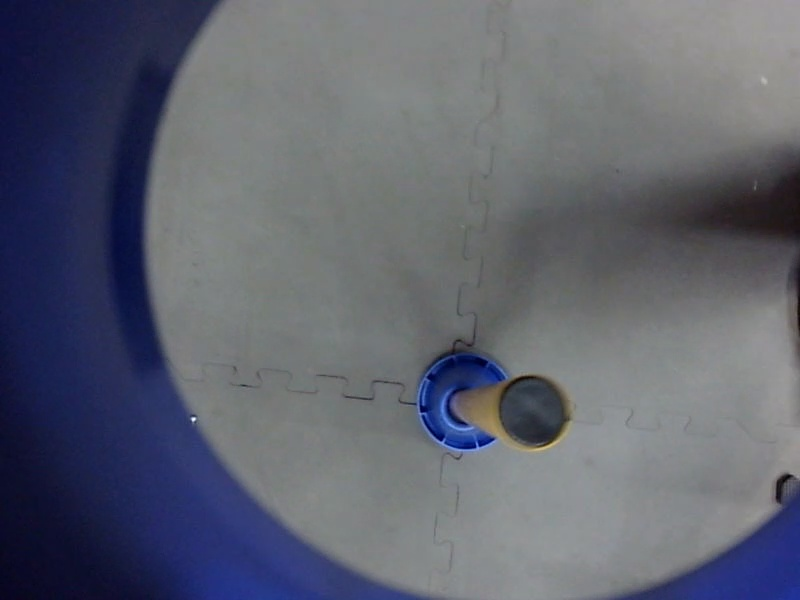tip: (484, 367, 583, 458)
